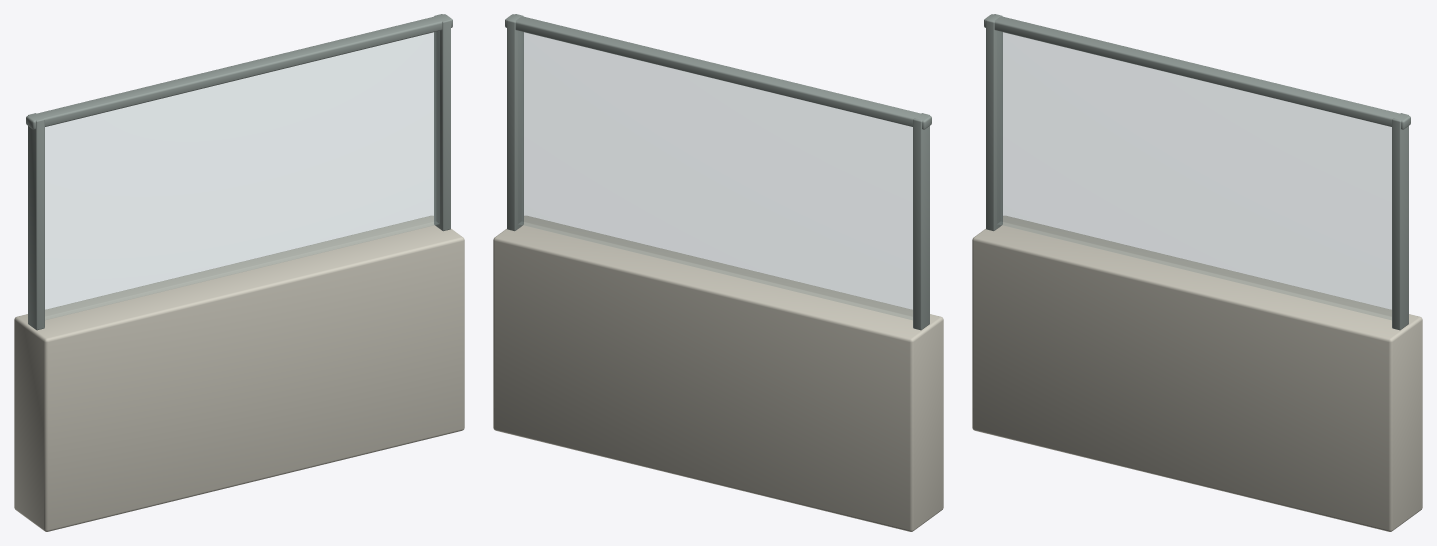
File: balcony-rail-hybrid.glb
3 views of the same model, side by side, from view 1: azimuth 30°, elevation 25°; view 2: azimuth 150°, elevation 25°; view 3: azimuth 330°, elevation 25° (orthographic).
Visible parts, largest first — view 1: balcony-rail-hybrid; view 2: balcony-rail-hybrid; view 3: balcony-rail-hybrid.
Part boxes in pixels (<box>): balcony-rail-hybrid: <box>14,14,464,531</box>; balcony-rail-hybrid: <box>493,14,943,531</box>; balcony-rail-hybrid: <box>972,14,1422,531</box>.
Size of the model in its own units: 1.2 by 1.1 by 0.16.
